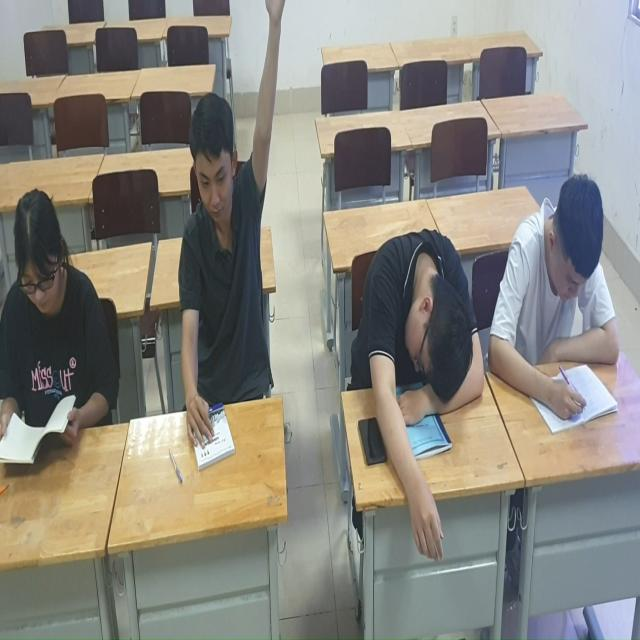raise_hand: (173, 1, 292, 481)
read: (1, 187, 128, 485), (484, 165, 623, 429)
sleep: (360, 211, 487, 577)
